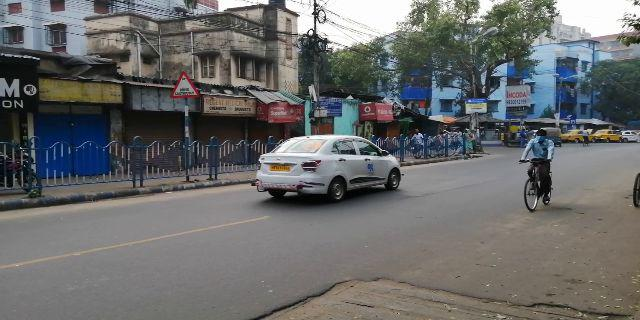Car: (258, 134, 402, 214)
Cycle: (519, 132, 558, 213)
